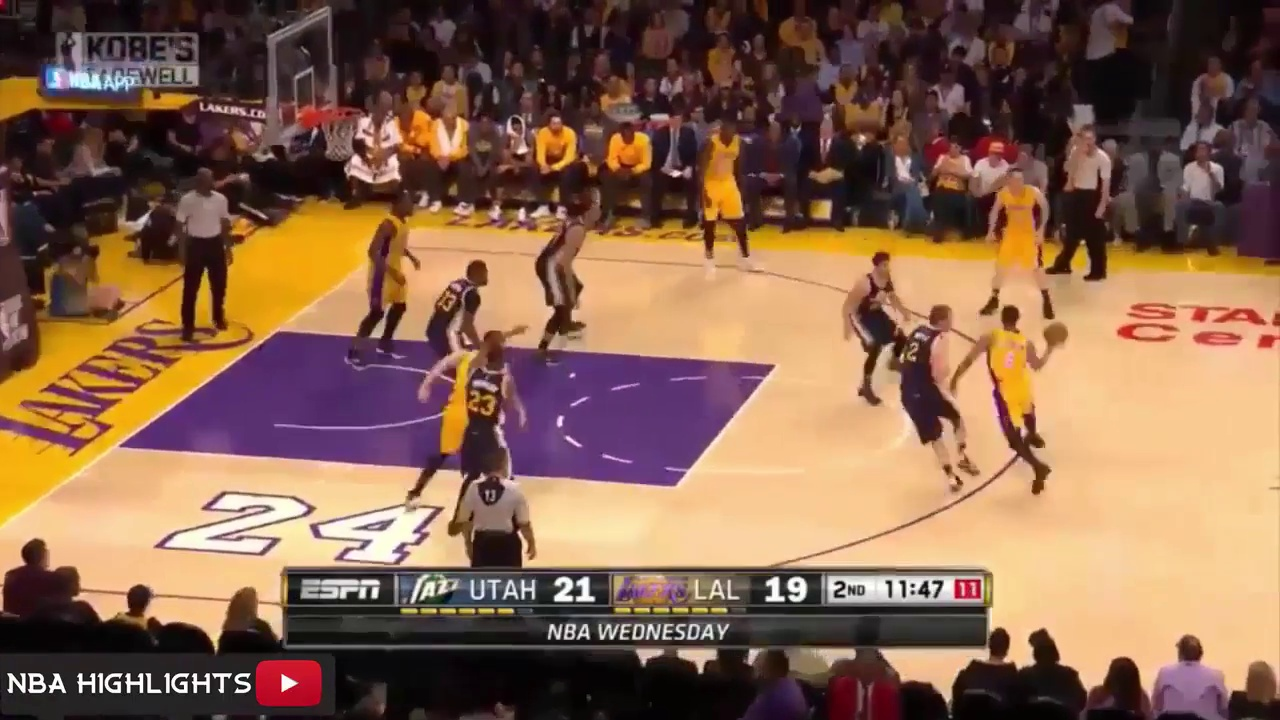jazz: (902, 300, 981, 493), (537, 199, 604, 356), (464, 338, 531, 485), (845, 249, 904, 405), (426, 259, 492, 351)
lakers: (980, 305, 1063, 489), (401, 332, 484, 505), (689, 118, 773, 281), (976, 166, 1063, 320), (350, 192, 426, 363)
